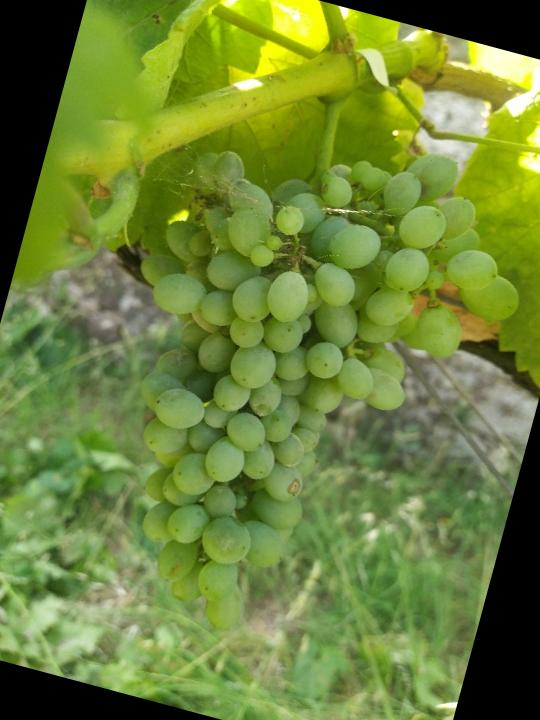grape: (56, 85, 540, 690)
